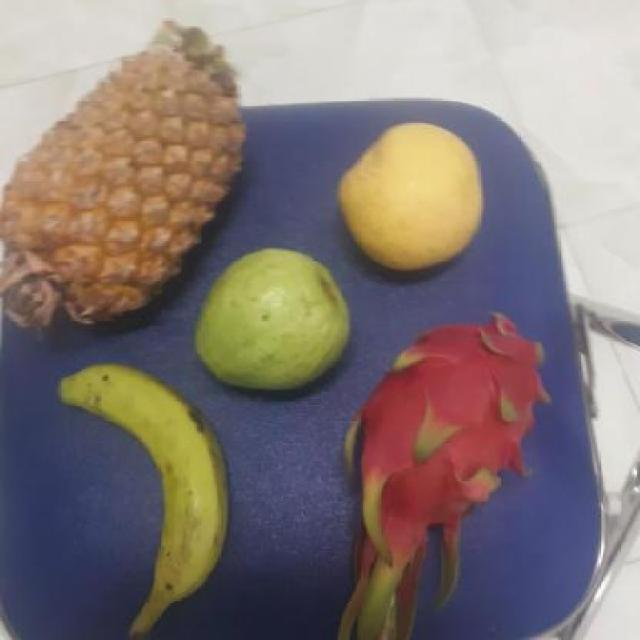banana: (60, 367, 232, 604)
dragon fruit: (345, 318, 557, 554)
guava: (189, 240, 356, 395)
pear: (336, 117, 492, 274)
pineapple: (1, 31, 241, 332)
